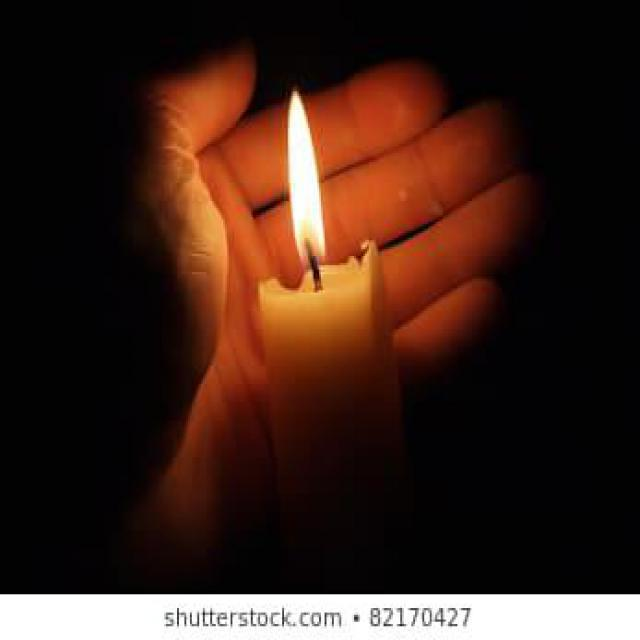Fire: (290, 89, 326, 270)
